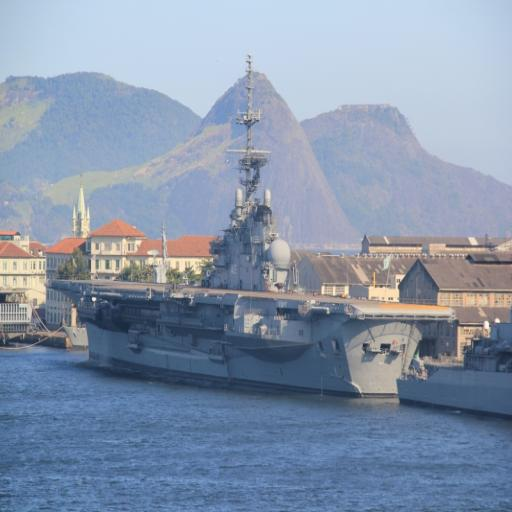Portanaves: (42, 43, 460, 413)
